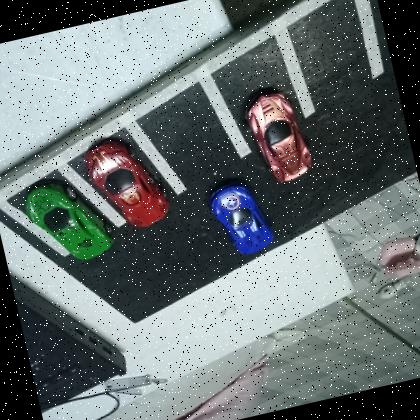Car: (78, 128, 175, 240), (18, 167, 120, 272), (238, 84, 318, 190), (203, 174, 279, 262)
